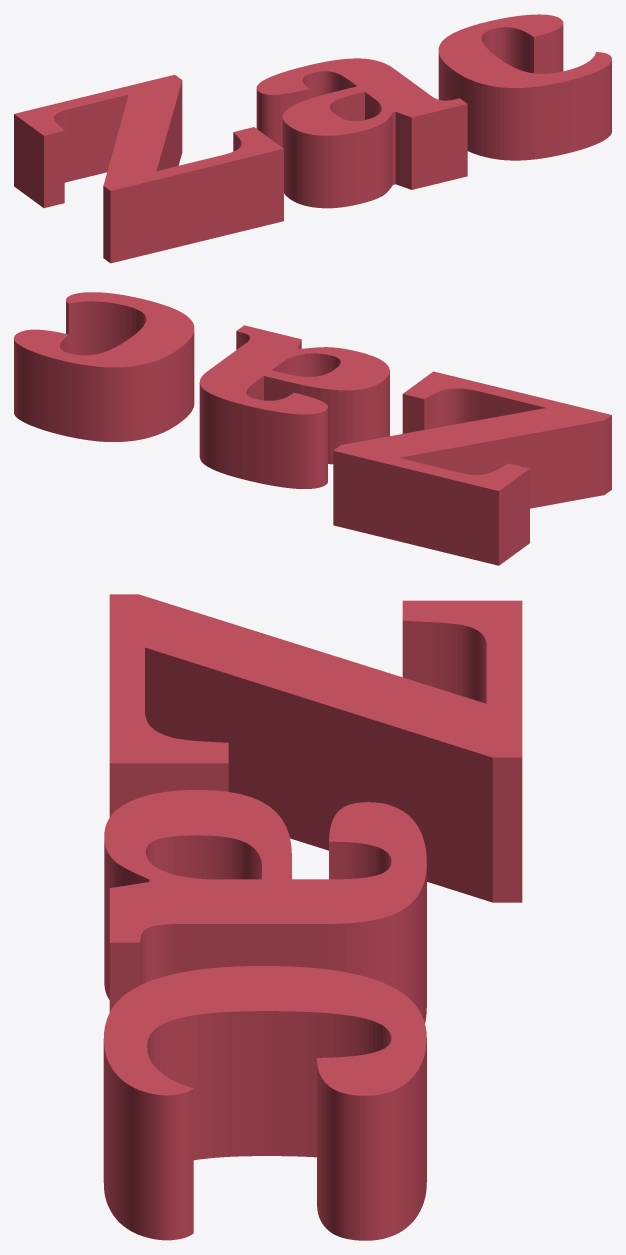
File: birthdayHeart.glb
The picture shows the model from 3 angles, top to bottom: view 1: azimuth 30°, elevation 25°; view 2: azimuth 150°, elevation 25°; view 3: azimuth 270°, elevation 25°; orthographic projection. The views are drawn at different scales.
Parts seen in each view (by area): view 1: Mesh_Mesh_head_geo.001_lambert2SG.001; view 2: Mesh_Mesh_head_geo.001_lambert2SG.001; view 3: Mesh_Mesh_head_geo.001_lambert2SG.001.
Boxes of the visible parts, left/top/right/bottom form: Mesh_Mesh_head_geo.001_lambert2SG.001: left=14, top=14, right=611, bottom=263; Mesh_Mesh_head_geo.001_lambert2SG.001: left=14, top=292, right=611, bottom=565; Mesh_Mesh_head_geo.001_lambert2SG.001: left=103, top=594, right=522, bottom=1240.
Bounding box in the file's own units: 81.63 × 11 × 28.77.
